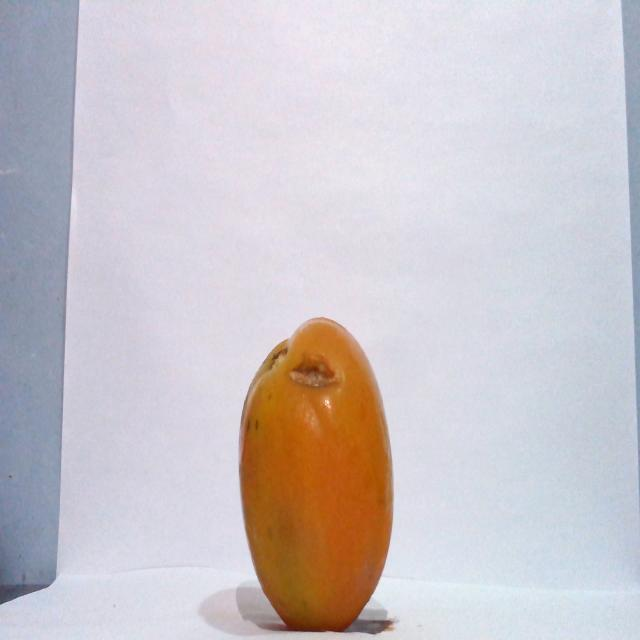Red: (236, 315, 395, 631)
